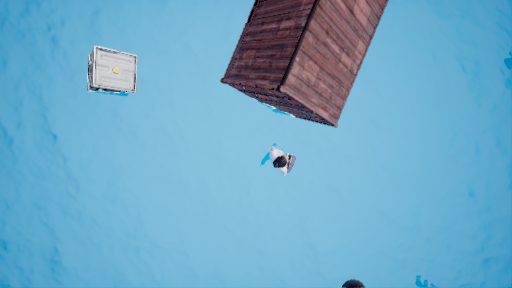person: (261, 141, 311, 187)
